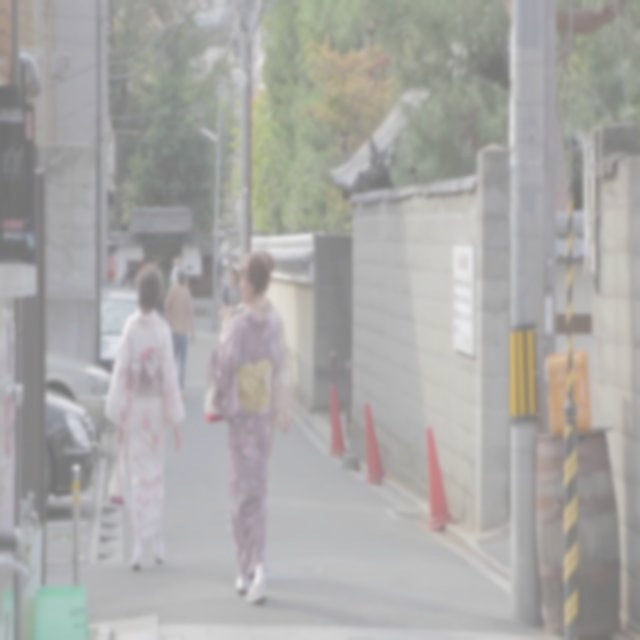pessoa: (204, 244, 282, 608), (102, 260, 186, 574), (216, 244, 294, 582), (162, 264, 198, 404), (220, 265, 242, 320), (153, 258, 165, 322), (170, 253, 184, 288), (120, 264, 138, 290), (170, 254, 177, 266)
